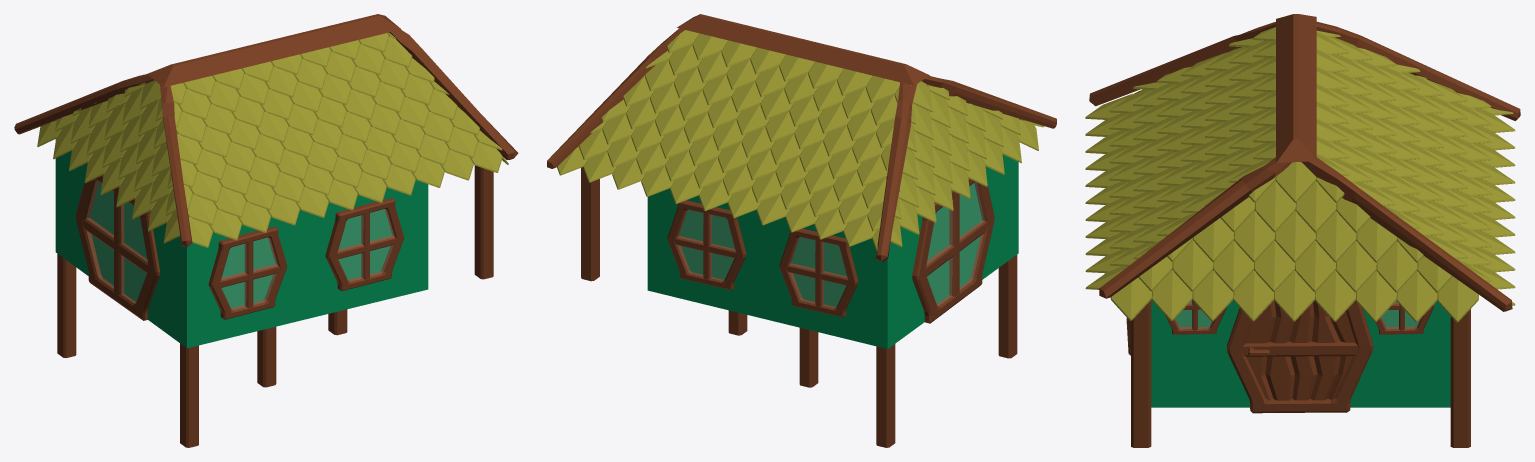
File: Talias' House.fbx
The picture shows the model from 3 angles, left to right: view 1: azimuth 30°, elevation 25°; view 2: azimuth 150°, elevation 25°; view 3: azimuth 270°, elevation 25°; orthographic projection. The views are drawn at different scales.
Parts seen in each view (by area): view 1: Dachówka.002, Podstawy, Dachówka.001, Okno_5, Okno_3, Okno_2, Połączenia.001, Kolumna, Połączenia.003, Kolumna.007, Połączenia.005, Kolumna.006 (+2 smaller); view 2: Dachówka, Podstawy, Dachówka.001, Okno_5, Okno_8, Okno_1, Połączenia.001, Połączenia.004, Połączenia.002, Kolumna.007, Kolumna.001, Kolumna.006 (+2 smaller); view 3: Dachówka.003, Dachówka, Dachówka.002, Podstawy, Drzwi, Połączenia.001, Połączenia.002, Połączenia.003, Kolumna, Kolumna.001, Połączenia.004, Połączenia.005 (+2 smaller).
Part boxes in pixels (x1,y1,x2,y2): Dachówka.002: [170, 32, 502, 247]; Podstawy: [55, 96, 428, 348]; Dachówka.001: [37, 80, 180, 243]; Okno_5: [75, 164, 160, 320]; Okno_3: [325, 198, 403, 291]; Okno_2: [208, 226, 287, 319]; Połączenia.001: [147, 14, 401, 87]; Kolumna: [474, 165, 493, 279]; Połączenia.003: [389, 29, 518, 159]; Kolumna.007: [57, 254, 76, 357]; Połączenia.005: [160, 85, 192, 246]; Kolumna.006: [180, 343, 198, 447]; Dachówka: [557, 30, 911, 251]; Podstawy: [647, 154, 1018, 348]; Dachówka.001: [879, 81, 1038, 247]; Okno_5: [912, 178, 994, 323]; Okno_8: [667, 200, 746, 290]; Okno_1: [779, 228, 858, 317]; Połączenia.001: [677, 14, 929, 85]; Połączenia.004: [876, 82, 916, 261]; Połączenia.002: [547, 28, 684, 168]; Kolumna.007: [876, 344, 895, 447]; Kolumna.001: [581, 167, 599, 281]; Kolumna.006: [998, 254, 1017, 358]; Dachówka.003: [1110, 162, 1478, 322]; Dachówka: [1316, 30, 1515, 305]; Dachówka.002: [1085, 27, 1275, 289]; Podstawy: [1151, 300, 1450, 407]; Drzwi: [1227, 300, 1373, 413]; Połączenia.001: [1276, 14, 1316, 162]; Połączenia.002: [1301, 157, 1512, 311]; Połączenia.003: [1099, 157, 1291, 298]; Kolumna: [1131, 300, 1151, 447]; Kolumna.001: [1450, 309, 1470, 447]; Połączenia.004: [1316, 21, 1520, 120]; Połączenia.005: [1089, 22, 1275, 106].
Bounding box in the file's own units: 1064 × 952 × 935.
